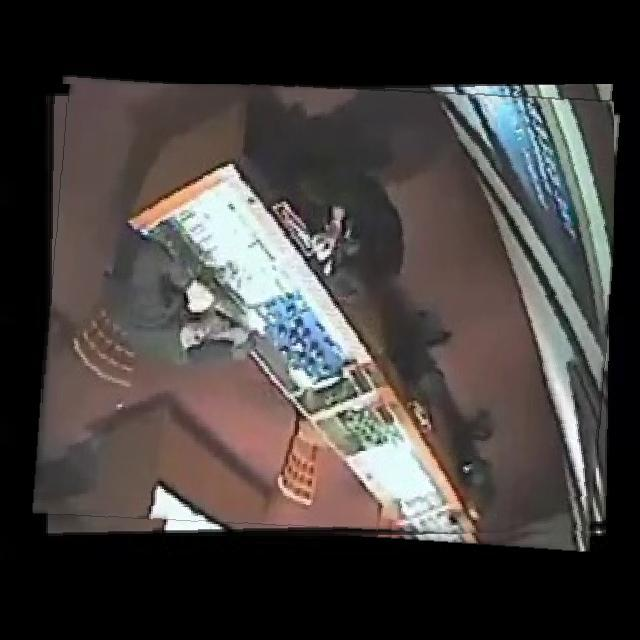normal: (40, 84, 614, 543)
